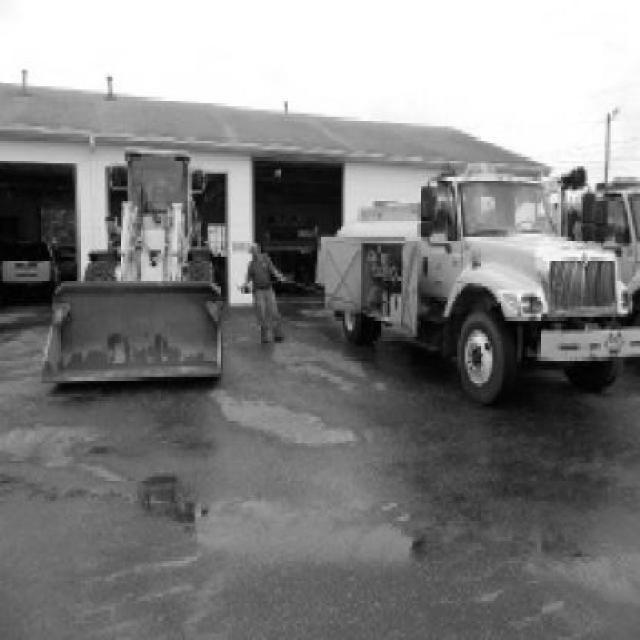Box Truck: (317, 162, 640, 406)
Construction Equipment: (40, 147, 223, 386)
